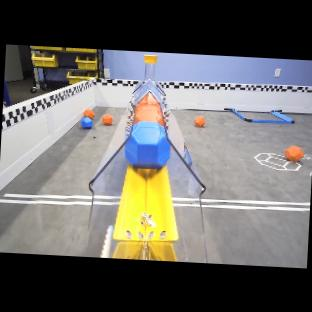Autolimit: (0, 193, 92, 205), (200, 198, 310, 207), (201, 204, 309, 211), (171, 197, 200, 207), (93, 195, 120, 200), (94, 200, 119, 205)
Goal: (83, 77, 207, 263)
Loader: (143, 54, 157, 81)
Parking - B: (224, 108, 294, 123)
V5_BLUE: (124, 121, 170, 168), (80, 117, 92, 128)
V5_RED: (133, 93, 163, 125), (284, 145, 303, 161), (101, 114, 112, 125), (80, 117, 92, 127), (83, 109, 94, 119), (194, 116, 205, 126)
blueingoal: (124, 121, 170, 168)
redingoal: (134, 94, 163, 126)
